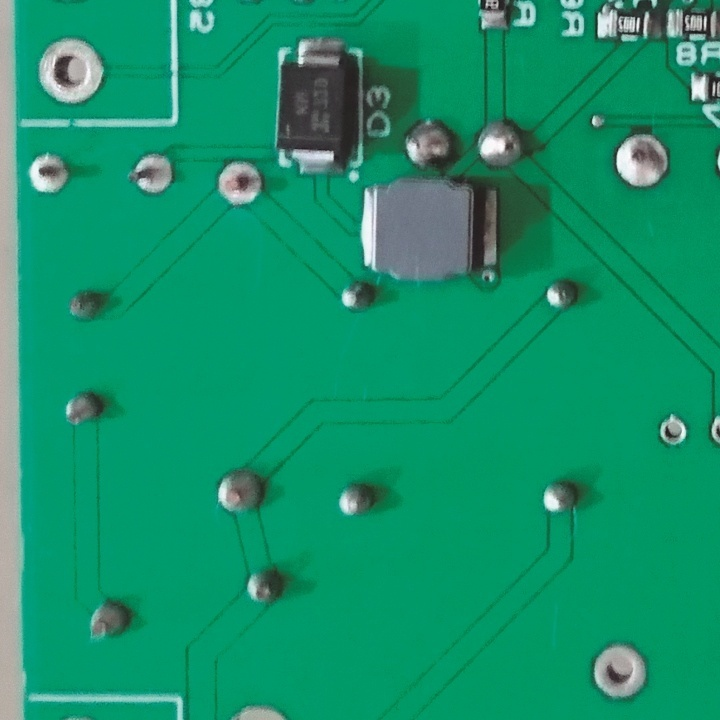F: (33, 39, 111, 110), (587, 638, 653, 702), (611, 131, 676, 194), (122, 153, 177, 200), (212, 163, 268, 209), (27, 152, 73, 194), (659, 412, 692, 451)
